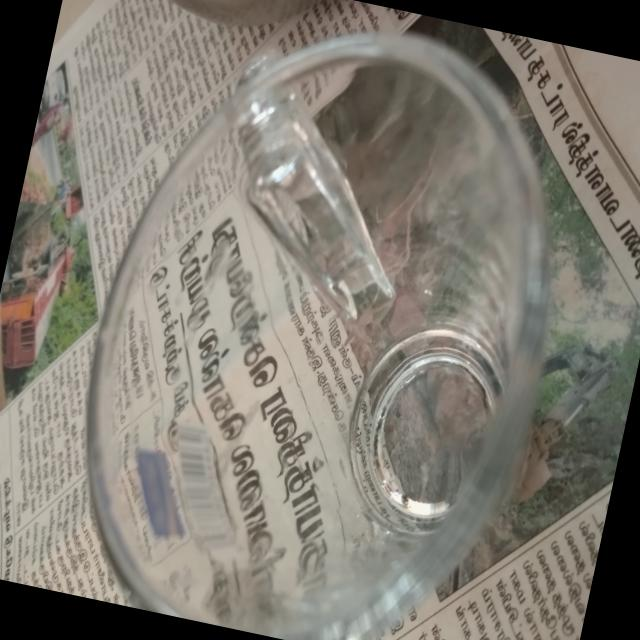glass-VX4N: (37, 0, 599, 640)
